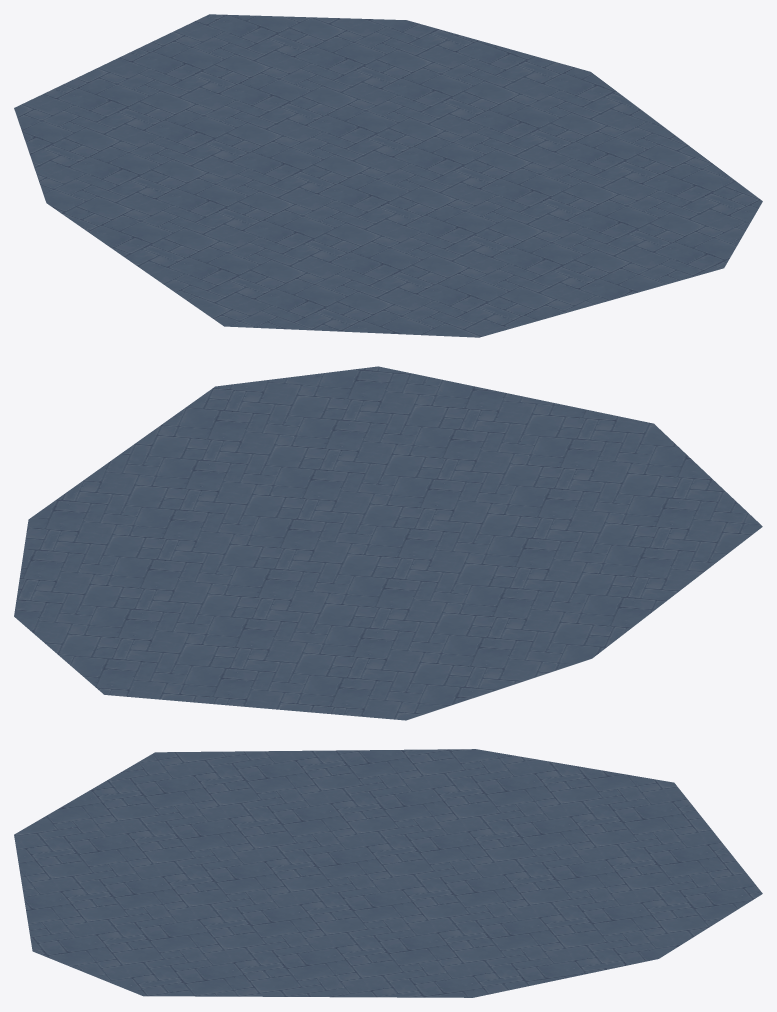
The model's file is Area01_2.FBX.
3 views of the same model, one above another, from view 1: azimuth 30°, elevation 25°; view 2: azimuth 150°, elevation 25°; view 3: azimuth 270°, elevation 25° (orthographic). The views are drawn at different scales.
Visible parts, largest first — view 1: Area01_2; view 2: Area01_2; view 3: Area01_2.
Part boxes in pixels (x1,y1,x2,y2): Area01_2: (14, 14, 762, 337); Area01_2: (14, 366, 762, 720); Area01_2: (14, 749, 762, 997).
Size of the model in its own units: 2806 by 0.000936 by 3571.
